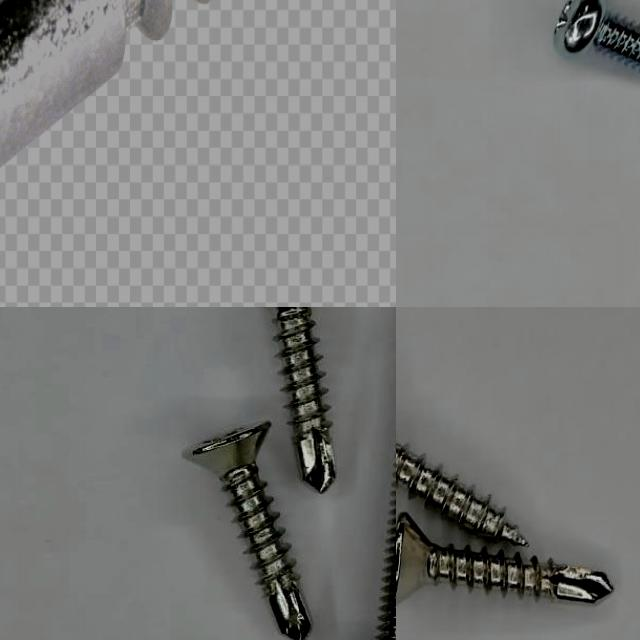Screw: (184, 422, 311, 640), (396, 513, 614, 603), (396, 439, 527, 546), (276, 307, 336, 493), (555, 0, 640, 68)
